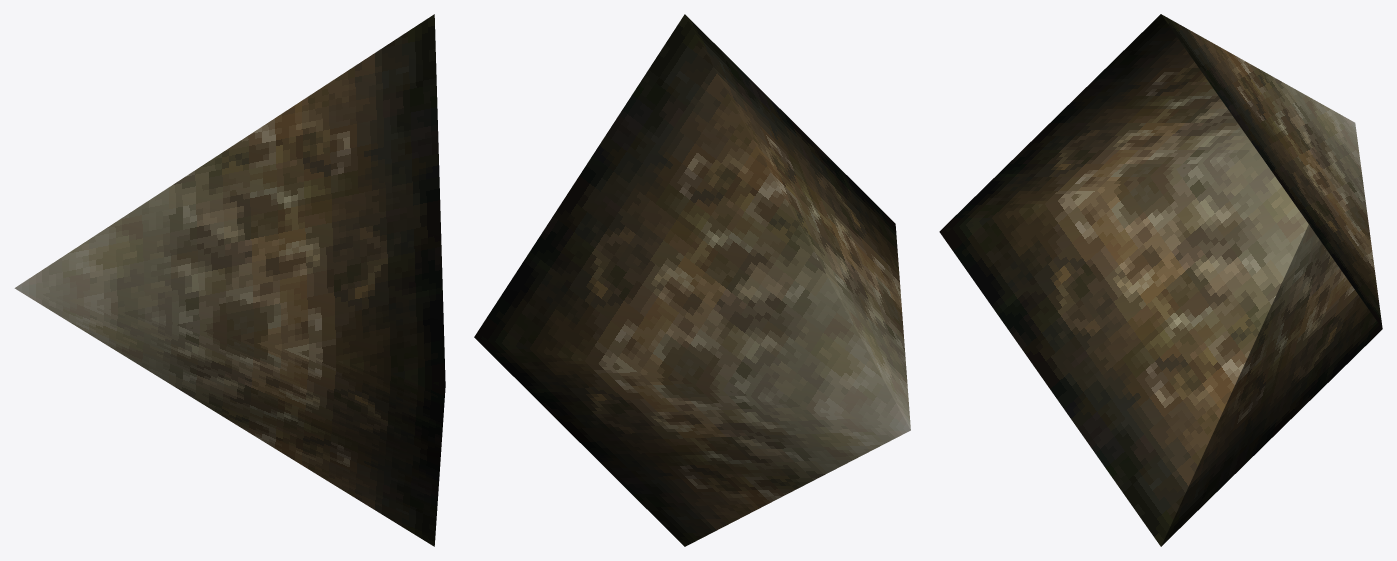
File: OVERHILL_A_01_PLANE53.fbx
3 renders of one model, left to right at view 1: azimuth 30°, elevation 25°; view 2: azimuth 150°, elevation 25°; view 3: azimuth 270°, elevation 25°, orthographic.
Parts seen in each view (by area): view 1: OVERHILL_A_01_PLANE53; view 2: OVERHILL_A_01_PLANE53; view 3: OVERHILL_A_01_PLANE53.
Boxes of the visible parts, x1,y1,x2,y2 form: OVERHILL_A_01_PLANE53: (14,14,445,546); OVERHILL_A_01_PLANE53: (474,14,910,546); OVERHILL_A_01_PLANE53: (939,14,1382,546).
Size of the model in its own units: 1886 by 2269 by 1711.
1 material, 1 textured.
